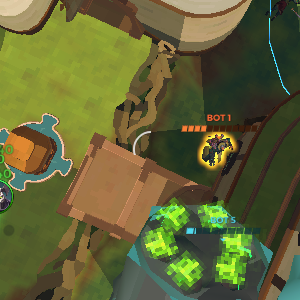model: (201, 135, 233, 172)
